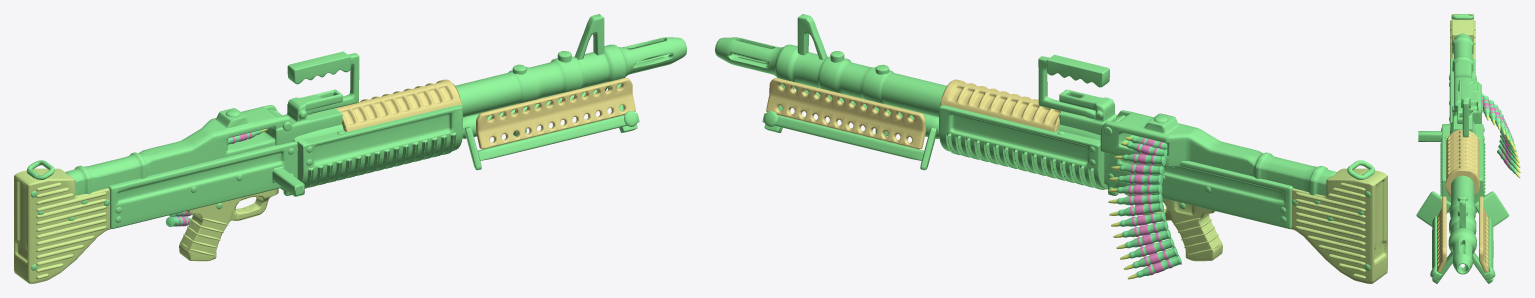
The picture shows the model from 3 angles, left to right: view 1: azimuth 30°, elevation 25°; view 2: azimuth 150°, elevation 25°; view 3: azimuth 270°, elevation 25°; orthographic projection. The views are drawn at different scales.
Visible parts, largest first — view 1: My_M60_machinegun_25; view 2: My_M60_machinegun_25; view 3: My_M60_machinegun_25.
Boxes of the visible parts, left/top/right/bottom form: My_M60_machinegun_25: left=14, top=14, right=686, bottom=283; My_M60_machinegun_25: left=715, top=14, right=1387, bottom=283; My_M60_machinegun_25: left=1416, top=14, right=1520, bottom=283.
Size of the model in its own units: 73.87 by 17.83 by 13.91.
